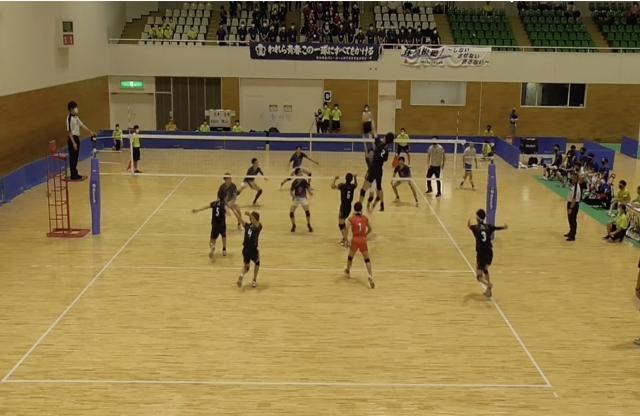spike: (358, 104, 396, 218)
